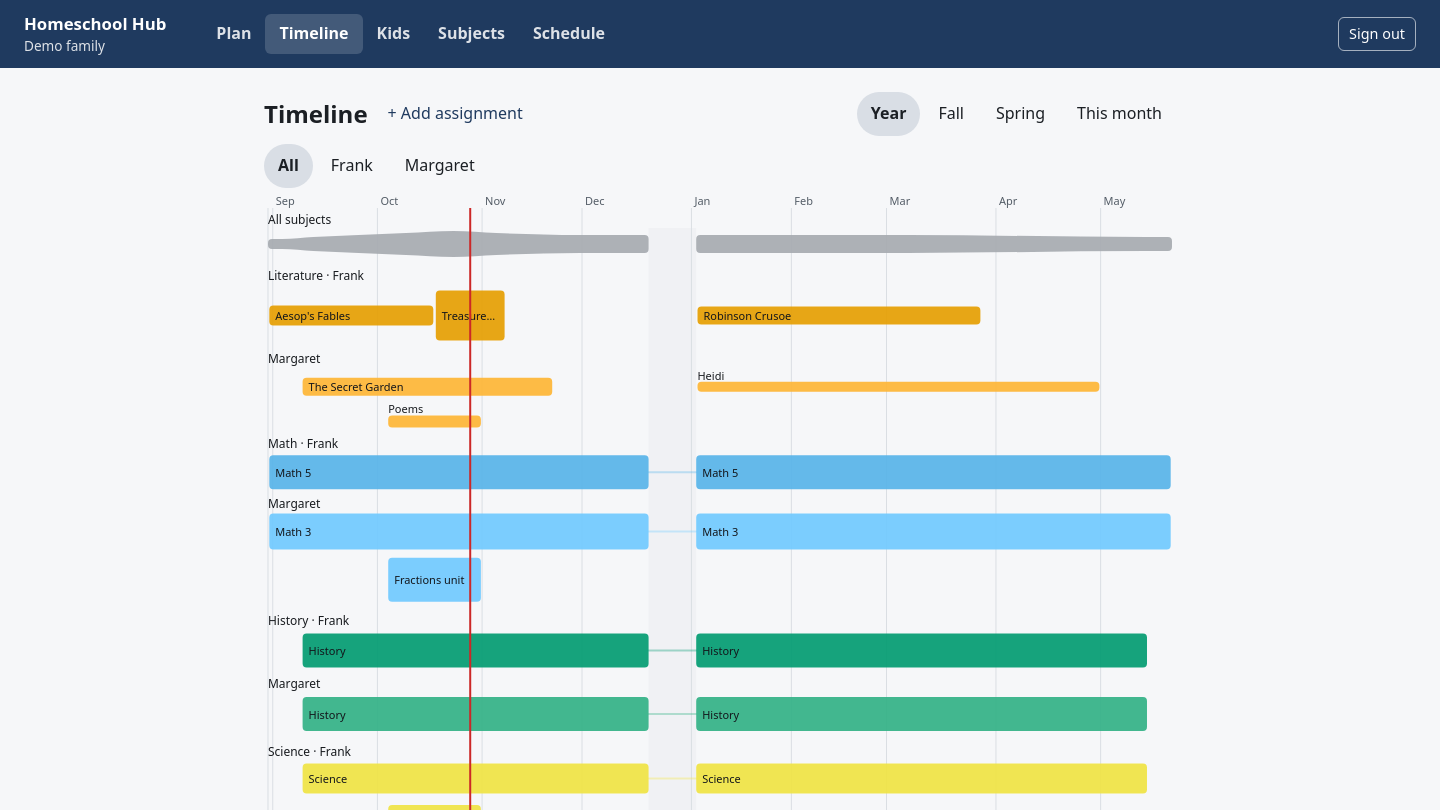
adding an assignment from the timeline › one calm button in the header opens the assignment form in a side panel on wide screens
The image size is (1440, 810).
Click the button "+ Add assignment": (455, 114) [376, 92, 535, 136]
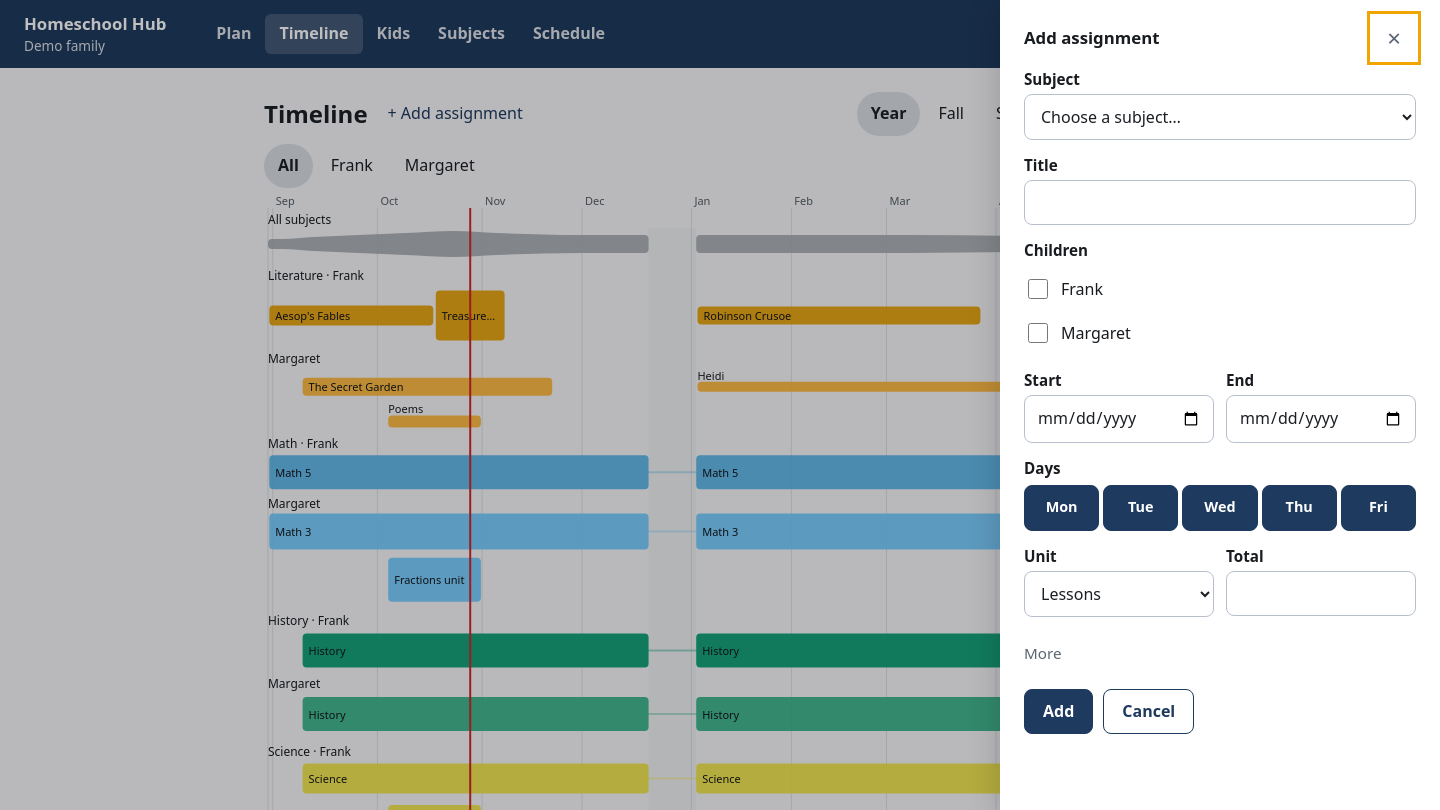
Now the element named "Weight per" is shown, box [1024, 642, 1062, 662]
Now the buttons read "×", "Add", "Cancel", in this order, box [1372, 16, 1416, 60]; [1024, 689, 1093, 734]; [1103, 689, 1194, 734]
